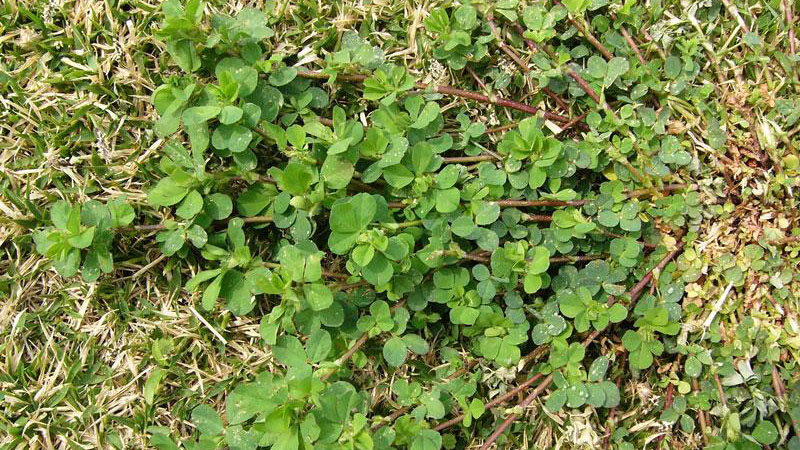clover: (69, 8, 726, 448)
